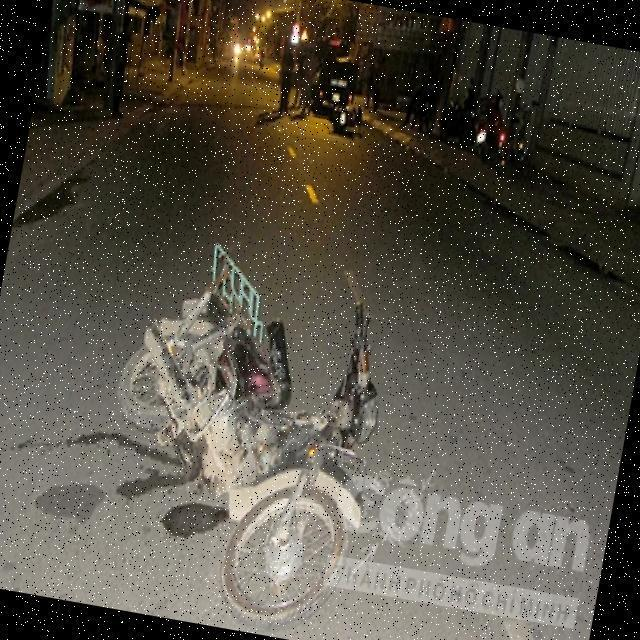accident: (66, 189, 444, 640)
